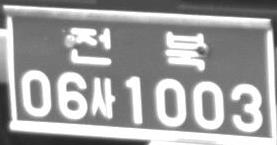0: (154, 77, 187, 128), (192, 80, 225, 129), (20, 69, 52, 117)
1: (122, 75, 149, 125)
3: (230, 83, 263, 133)
6: (56, 71, 87, 119)
사: (88, 76, 116, 118)
전북_D: (70, 26, 205, 71)
